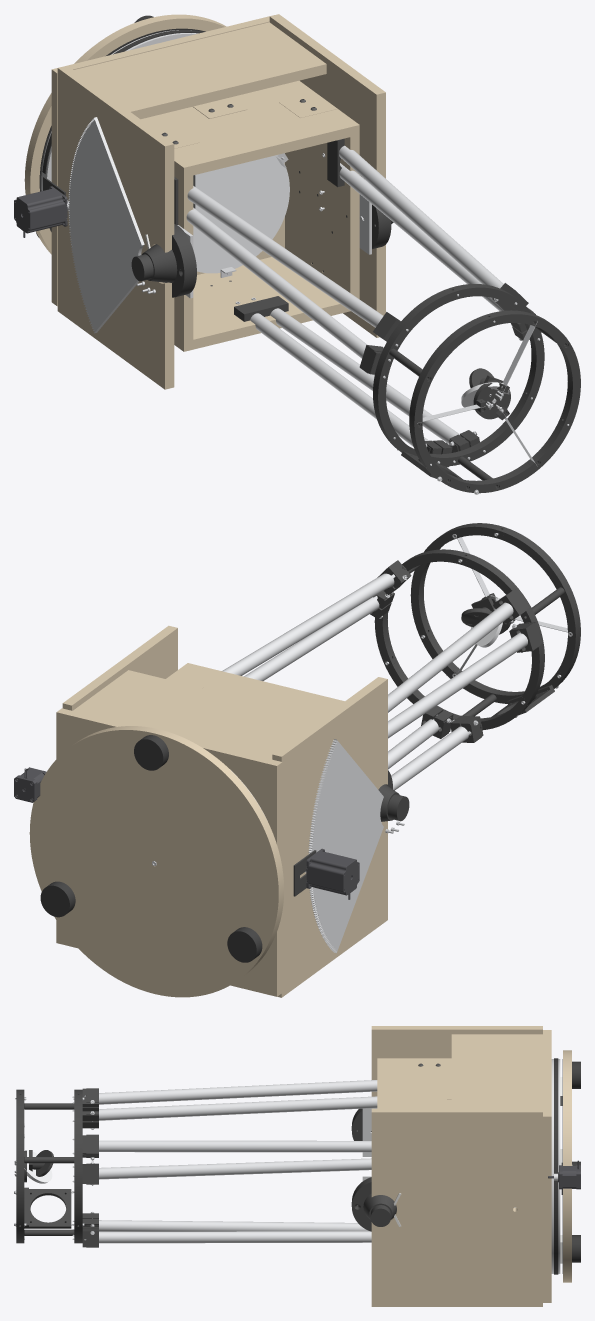
The model's file is telescope.glb.
3 views of the same model, one above another, from view 1: azimuth 30°, elevation 25°; view 2: azimuth 150°, elevation 25°; view 3: azimuth 270°, elevation 25° (orthographic). The views are drawn at different scales.
Visible parts, largest first — view 1: plywood::Part 1 (×6), plywood::Rocker Side Wall (2x) (×2), aluminum-brushed::Truss Pole 686mm (1in OD 6061) (×6), plywood::Rocker Rear Brace, aluminum-brushed::ALT Sector Gear R285, mirror::Primary Mirror 254mm f/4.48, black-print::UTA Ring Segment BOTTOM v5 (×3), black-print::UTA Ring Segment TOP v5 (×2), plywood::Ground Board D508, black-print::Part 1 (×2), plywood::Rocker Floor 450sq, black-print::UTA Ring Segment TOP-F v5 (focuser) (+6 smaller); view 2: plywood::Ground Board D508, plywood::Rocker Side Wall (2x) (×2), aluminum-brushed::Truss Pole 686mm (1in OD 6061) (×6), plywood::Rocker Rear Brace, aluminum-brushed::ALT Sector Gear R285, plywood::Rocker Floor 450sq, black-print::UTA Ring Segment BOTTOM v5 (×3), black-print::UTA Ring Segment TOP v5 (×2), plywood::Part 1, black-anodized::NEMA 23 23HS30-2804S, black-print::UTA Ring Segment TOP-F v5 (focuser), rubber::Foot (3x) b (+5 smaller); view 3: plywood::Rocker Side Wall (2x) (×2), aluminum-brushed::Truss Pole 686mm (1in OD 6061) (×6), plywood::Rocker Rear Brace, plywood::Part 1 (×2), plywood::Rocker Floor 450sq, plywood::Ground Board D508, black-print::Part 1, aluminum-brushed::AZ Belt Disc D470, black-print::Focuser Mount v5 (GSO 2in), black-print::UTA Ring Segment BOTTOM v5, black-print::UTA Ring Segment TOP v5, rubber::AZ Timing Belt ring [simplified] (+3 smaller).
Boxes of the visible parts, <box> form: plywood::Part 1 (×6): <box>141,80,359,351</box>; plywood::Rocker Side Wall (2x) (×2): <box>57,14,385,389</box>; aluminum-brushed::Truss Pole 686mm (1in OD 6061) (×6): <box>186,145,503,446</box>; plywood::Rocker Rear Brace: <box>73,22,326,119</box>; aluminum-brushed::ALT Sector Gear R285: <box>68,117,144,333</box>; mirror::Primary Mirror 254mm f/4.48: <box>193,155,289,273</box>; black-print::UTA Ring Segment BOTTOM v5 (×3): <box>373,284,544,466</box>; black-print::UTA Ring Segment TOP v5 (×2): <box>409,310,580,473</box>; plywood::Ground Board D508: <box>24,14,226,254</box>; black-print::Part 1 (×2): <box>131,204,393,297</box>; plywood::Rocker Floor 450sq: <box>51,16,269,306</box>; black-print::UTA Ring Segment TOP-F v5 (focuser): <box>428,416,574,493</box>; plywood::Ground Board D508: <box>29,726,284,997</box>; plywood::Rocker Side Wall (2x) (×2): <box>62,625,387,997</box>; aluminum-brushed::Truss Pole 686mm (1in OD 6061) (×6): <box>222,573,527,790</box>; plywood::Rocker Rear Brace: <box>73,670,322,759</box>; aluminum-brushed::ALT Sector Gear R285: <box>308,739,383,953</box>; plywood::Rocker Floor 450sq: <box>56,708,282,996</box>; black-print::UTA Ring Segment BOTTOM v5 (×3): <box>374,549,544,730</box>; black-print::UTA Ring Segment TOP v5 (×2): <box>410,523,580,684</box>; plywood::Part 1: <box>166,663,344,716</box>; black-anodized::NEMA 23 23HS30-2804S: <box>306,848,359,895</box>; black-print::UTA Ring Segment TOP-F v5 (focuser): <box>416,628,562,703</box>; rubber::Foot (3x) b: <box>227,927,262,962</box>; plywood::Rocker Side Wall (2x) (×2): <box>371,1026,542,1306</box>; aluminum-brushed::Truss Pole 686mm (1in OD 6061) (×6): <box>86,1080,377,1243</box>; plywood::Rocker Rear Brace: <box>451,1034,542,1108</box>; plywood::Part 1 (×2): <box>377,1058,451,1108</box>; plywood::Rocker Floor 450sq: <box>543,1030,551,1302</box>; plywood::Ground Board D508: <box>563,1050,571,1282</box>; black-print::Part 1: <box>351,1177,396,1231</box>; aluminum-brushed::AZ Belt Disc D470: <box>551,1059,560,1273</box>; black-print::Focuser Mount v5 (GSO 2in): <box>24,1187,71,1228</box>; black-print::UTA Ring Segment BOTTOM v5: <box>74,1092,82,1222</box>; black-print::UTA Ring Segment TOP v5: <box>16,1092,24,1222</box>; rubber::AZ Timing Belt ring [simplified]: <box>554,1058,558,1274</box>.
Bounding box in the file's own units: 0.606 × 0.508 × 1.24.
